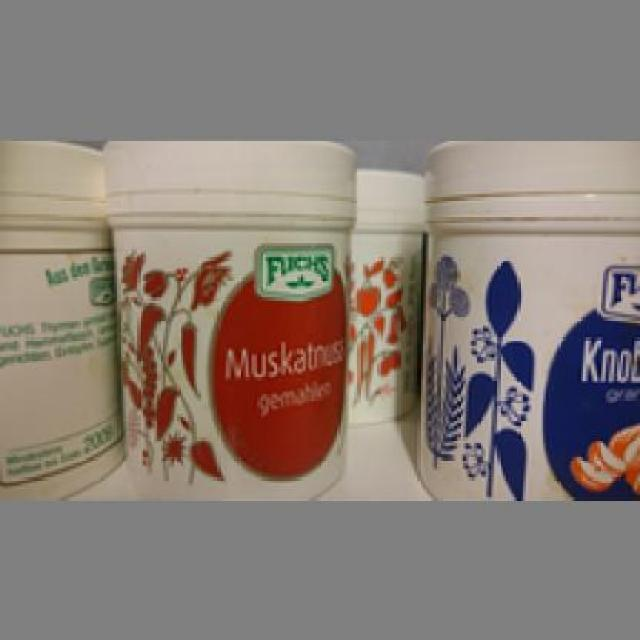Spices: (100, 139, 354, 492), (412, 137, 632, 494)
